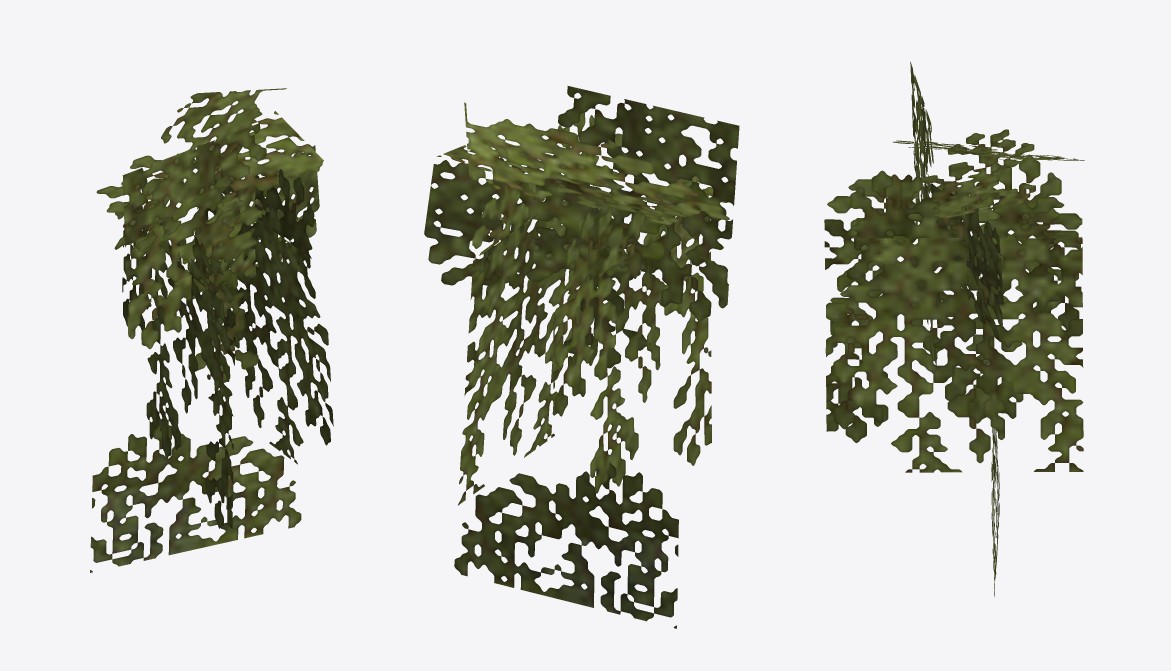
File: birch_leaves_yellowish_vertical_slab.obj
3 views of the same model, side by side, from view 1: azimuth 30°, elevation 25°; view 2: azimuth 150°, elevation 25°; view 3: azimuth 270°, elevation 25° (orthographic). The views are drawn at different scales.
Visible parts, largest first — view 1: south, west, east, north, top, bottom; view 2: south, north, east, west, top, bottom; view 3: south, north, bottom, west, top, east.
Boxes of the visible parts, box(x1,y1,x2,y2) form: south: box(175, 144, 333, 464); west: box(122, 123, 266, 382); east: box(90, 424, 301, 572); north: box(122, 167, 235, 528); top: box(114, 88, 286, 251); bottom: box(96, 111, 323, 213); south: box(424, 112, 671, 505); north: box(553, 182, 711, 493); east: box(454, 462, 678, 628); west: box(558, 86, 739, 368); top: box(464, 102, 729, 225); bottom: box(437, 140, 686, 221); south: box(826, 170, 1083, 472); north: box(824, 154, 1081, 442); bottom: box(921, 129, 1035, 218); west: box(910, 61, 936, 365); top: box(893, 140, 1084, 160); east: box(991, 428, 999, 596).
Size of the model in its own units: 2.01 by 3.65 by 2.09.
